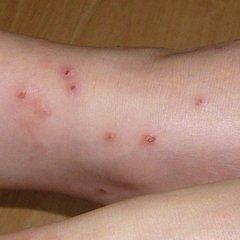Fleas: (100, 127, 119, 145), (65, 82, 81, 98), (191, 97, 208, 110), (60, 68, 77, 80), (143, 133, 156, 144), (99, 188, 110, 198), (16, 90, 25, 102)
